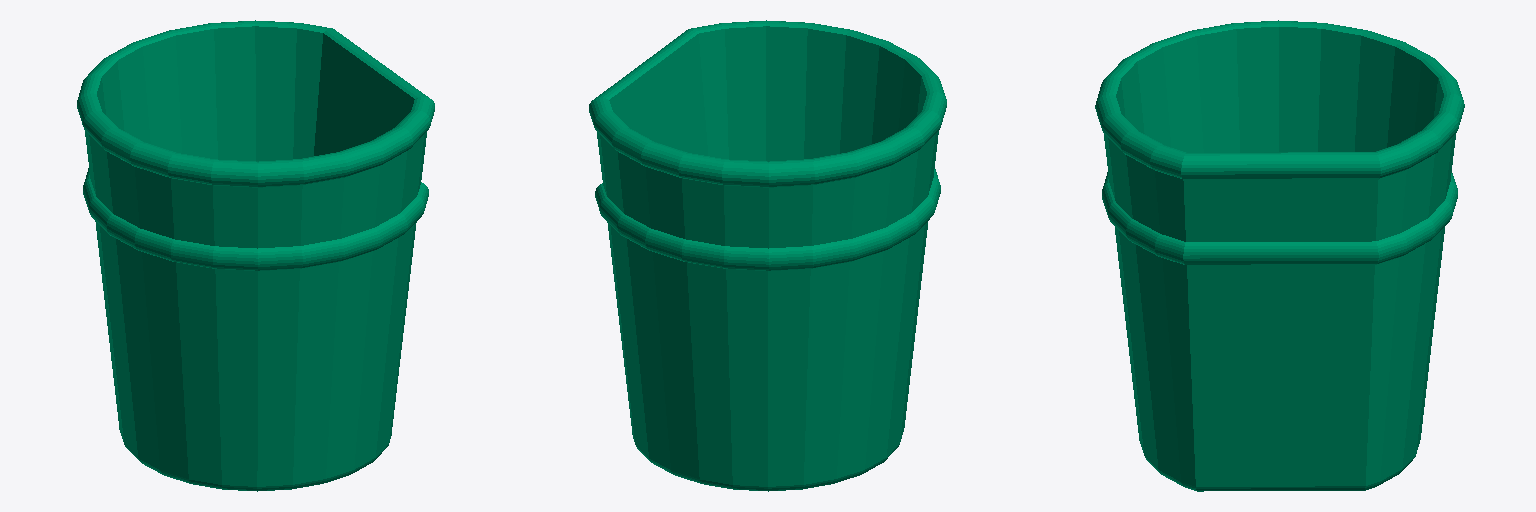
The robot description file, URDF, robot "partnet_3157ca03de3655acf3891d3e63e0baa5":
<?xml version="1.0" ?>
<robot name="partnet_3157ca03de3655acf3891d3e63e0baa5">
	<link name="base"/>
	<link name="link_0">
		<visual name="handle-1">
			<origin xyz="0 -0.430500873641537 0.06576132556510857"/>
			<geometry>
				<mesh filename="textured_objs/original-1.obj"/>
			</geometry>
		</visual>
		<collision>
			<origin xyz="0 -0.430500873641537 0.06576132556510857"/>
			<geometry>
				<mesh filename="manual_processed/original-1.obj"/>
			</geometry>
		</collision>
	</link>
	<joint name="joint_0" type="revolute">
		<origin xyz="0 0.430500873641537 -0.06576132556510857"/>
		<axis xyz="-1 0 0"/>
		<child link="link_0"/>
		<parent link="link_1"/>
		<limit lower="-2.1802653015913163" upper="1.407433508808227"/>
	</joint>
	<link name="link_1">
		<visual name="base_body-2">
			<origin xyz="0 0 0"/>
			<geometry>
				<mesh filename="textured_objs/original-2.obj"/>
			</geometry>
		</visual>
		<collision>
			<origin xyz="0 0 0"/>
			<geometry>
				<mesh filename="manual_processed/original-2.obj"/>
			</geometry>
		</collision>
	</link>
	<joint name="joint_1" type="fixed">
		<origin rpy="1.570796326794897 0 -1.570796326794897" xyz="0 0 0"/>
		<child link="link_1"/>
		<parent link="base"/>
	</joint>
</robot>

--- Facts derived from the render (not from the file) ---
The picture shows the robot from 3 angles, left to right: view 1: azimuth 30°, elevation 25°; view 2: azimuth 150°, elevation 25°; view 3: azimuth 270°, elevation 25°; orthographic projection.
Robot: partnet_3157ca03de3655acf3891d3e63e0baa5 — 3 links, 2 joints (1 revolute, 1 fixed); root link base; default pose: every joint at zero.
Links seen in each view (by area): view 1: link_1; view 2: link_1; view 3: link_1.
Boxes of the visible links, left/top/right/bottom form: link_1: left=77, top=20, right=434, bottom=491; link_1: left=589, top=20, right=946, bottom=491; link_1: left=1095, top=20, right=1464, bottom=491.
Size in the robot's own frame: 1.11 by 1.21 by 1.27 metres.
Meshes: 2 distinct files referenced, 1 mesh visuals loaded (1 OBJ); not drawn: 1 (reference not matched to a file when rendering).